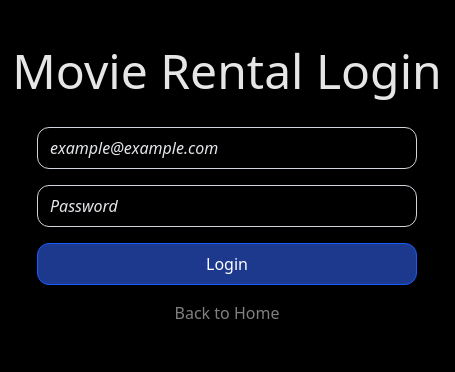
it: LoginPage › shows error message if email or password field is invalid
Step 1. Type "test" into the field with placeholder "example@example.com" → (227, 148), box 37,127 -> 417,169
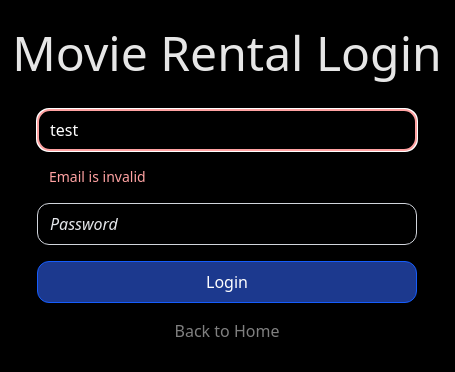
Step 2. Type "123" into the password field with placeholder "Password" → (227, 224), box 37,203 -> 417,245
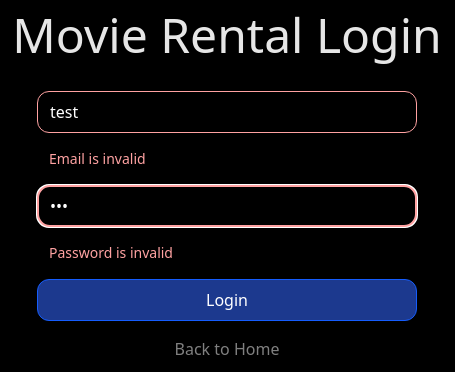
Now the text "Email is invalid" is shown, box 49,149 -> 146,168
Now the text "Password is invalid" is shown, box 49,243 -> 173,262
